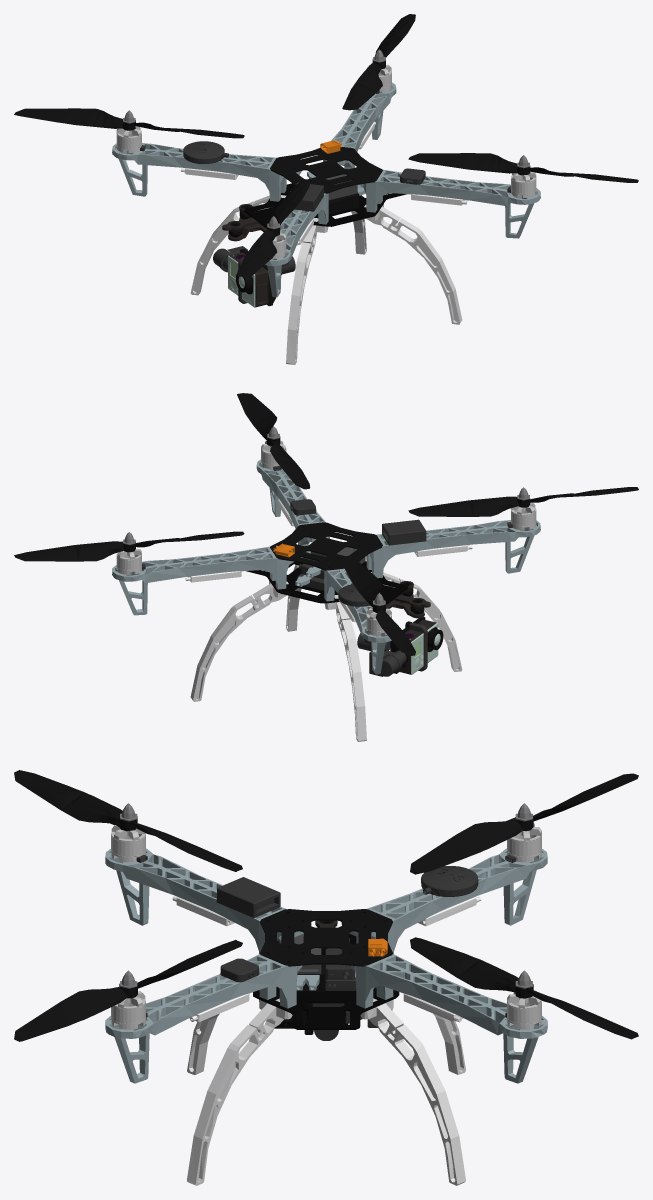
Rendered from quad-assembly.glb.
3 views of the same model, one above another, from view 1: azimuth 30°, elevation 25°; view 2: azimuth 150°, elevation 25°; view 3: azimuth 270°, elevation 25° (orthographic). The views are drawn at different scales.
Parts seen in each view (by area): view 1: 15. Brazo#2, 15. Brazo#4, 5. Soporte superior#1, 17. Hélice#1, 17. Hélice#4, 14. Pata#2, 15. Brazo#3, 14. Pata#1, 17. Hélice#2, 17. Hélice#3, 15. Brazo#1, 1. Soporte inferior#1 (+6 smaller); view 2: 15. Brazo#3, 15. Brazo#1, 5. Soporte superior#1, 17. Hélice#3, 17. Hélice#2, 14. Pata#3, 17. Hélice#4, 14. Pata#4, 17. Hélice#1, 15. Brazo#2, 15. Brazo#4, 1. Soporte inferior#1 (+6 smaller); view 3: 15. Brazo#3, 15. Brazo#2, 5. Soporte superior#1, 15. Brazo#4, 15. Brazo#1, 14. Pata#2, 14. Pata#3, 17. Hélice#4, 17. Hélice#2, 17. Hélice#3, 17. Hélice#1, 1. Soporte inferior#1 (+9 smaller).
Part boxes in pixels (x1,y1,x2,y2): 15. Brazo#2: (350,169,540,238); 15. Brazo#4: (112,143,301,201); 5. Soporte superior#1: (270,147,382,193); 17. Hélice#1: (408,153,638,182); 17. Hélice#4: (14,108,244,138); 14. Pata#2: (356,204,462,324); 15. Brazo#3: (323,82,396,169); 14. Pata#1: (286,218,328,364); 17. Hélice#2: (237,180,310,276); 17. Hélice#3: (342,14,415,110); 15. Brazo#1: (265,193,328,297); 1. Soporte inferior#1: (244,183,407,227); 15. Brazo#3: (112,546,302,615); 15. Brazo#1: (351,520,540,578); 5. Soporte superior#1: (270,522,382,570); 17. Hélice#3: (14,531,244,561); 17. Hélice#2: (408,487,638,516); 14. Pata#3: (190,580,296,701); 17. Hélice#4: (342,559,415,655); 14. Pata#4: (324,595,366,741); 17. Hélice#1: (237,393,310,489); 15. Brazo#2: (256,459,329,546); 15. Brazo#4: (324,568,391,674); 1. Soporte inferior#1: (246,561,408,604); 15. Brazo#3: (350,954,547,1083); 15. Brazo#2: (105,954,302,1083); 5. Soporte superior#1: (260,909,392,966); 15. Brazo#4: (349,848,547,953); 15. Brazo#1: (105,848,303,953); 14. Pata#2: (187,998,292,1185); 14. Pata#3: (360,998,465,1185); 17. Hélice#4: (410,773,638,874); 17. Hélice#2: (14,770,242,871); 17. Hélice#3: (410,937,638,1039); 17. Hélice#1: (14,940,242,1041); 1. Soporte inferior#1: (253,933,399,1029).
Bounding box in the file's own units: 0.5111 × 0.2134 × 0.5023.
